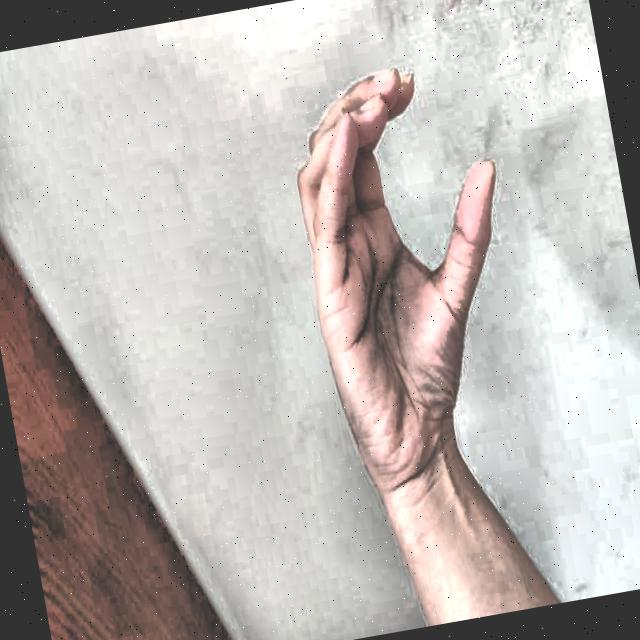A: (247, 14, 572, 516)
